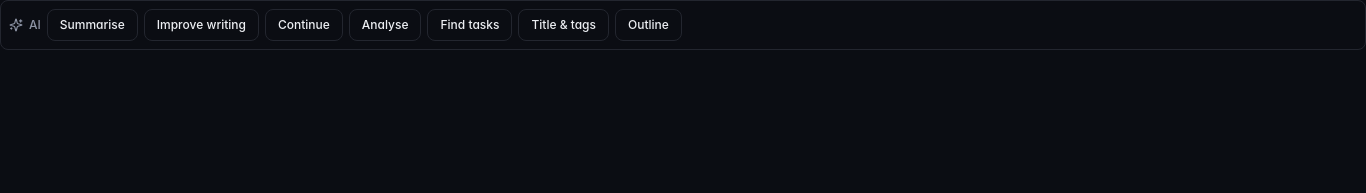
Test: NoteAiPanel › discards without touching the note
Click the button "Summarise". click: x=92, y=25
box: top-left (47, 9), bottom-right (138, 41)
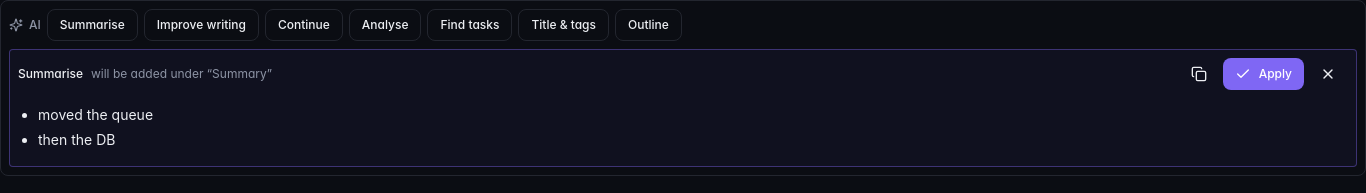
Expected: the list item "moved the queue" is shown, top-left (38, 106), bottom-right (153, 123)
Click the button named "Discard". click: x=1328, y=74
box: top-left (1308, 58), bottom-right (1348, 90)
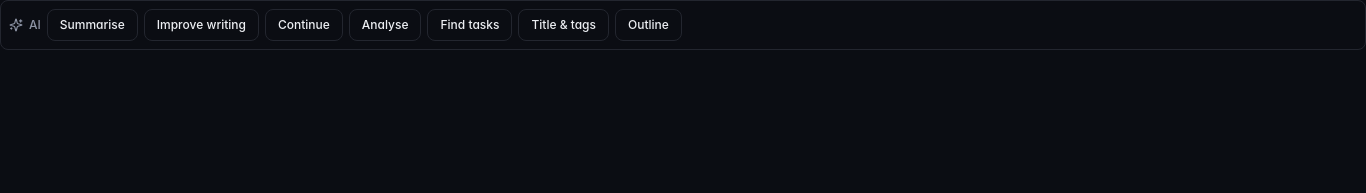
Expected: the list item "moved the queue" is gone
